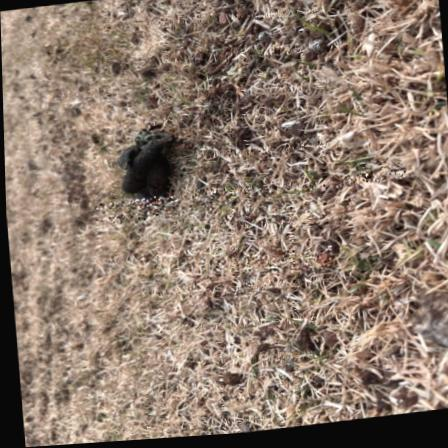dog-poop: (103, 123, 171, 209)
